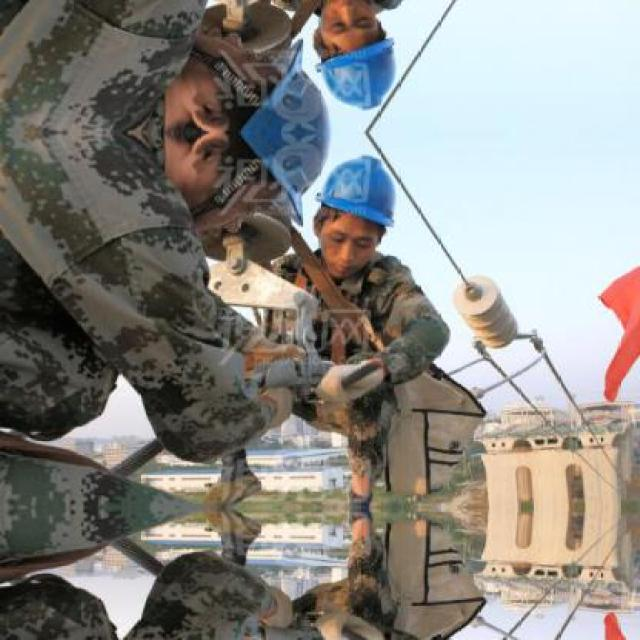helmet: (173, 132, 332, 232), (173, 32, 332, 132), (299, 145, 399, 276), (298, 0, 399, 120)
